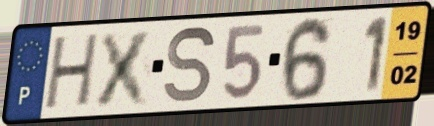1: (362, 14, 391, 95)
5: (218, 21, 271, 102)
6: (279, 13, 335, 103)
H: (41, 31, 103, 113)
S: (161, 23, 218, 106)
X: (90, 27, 159, 109)
